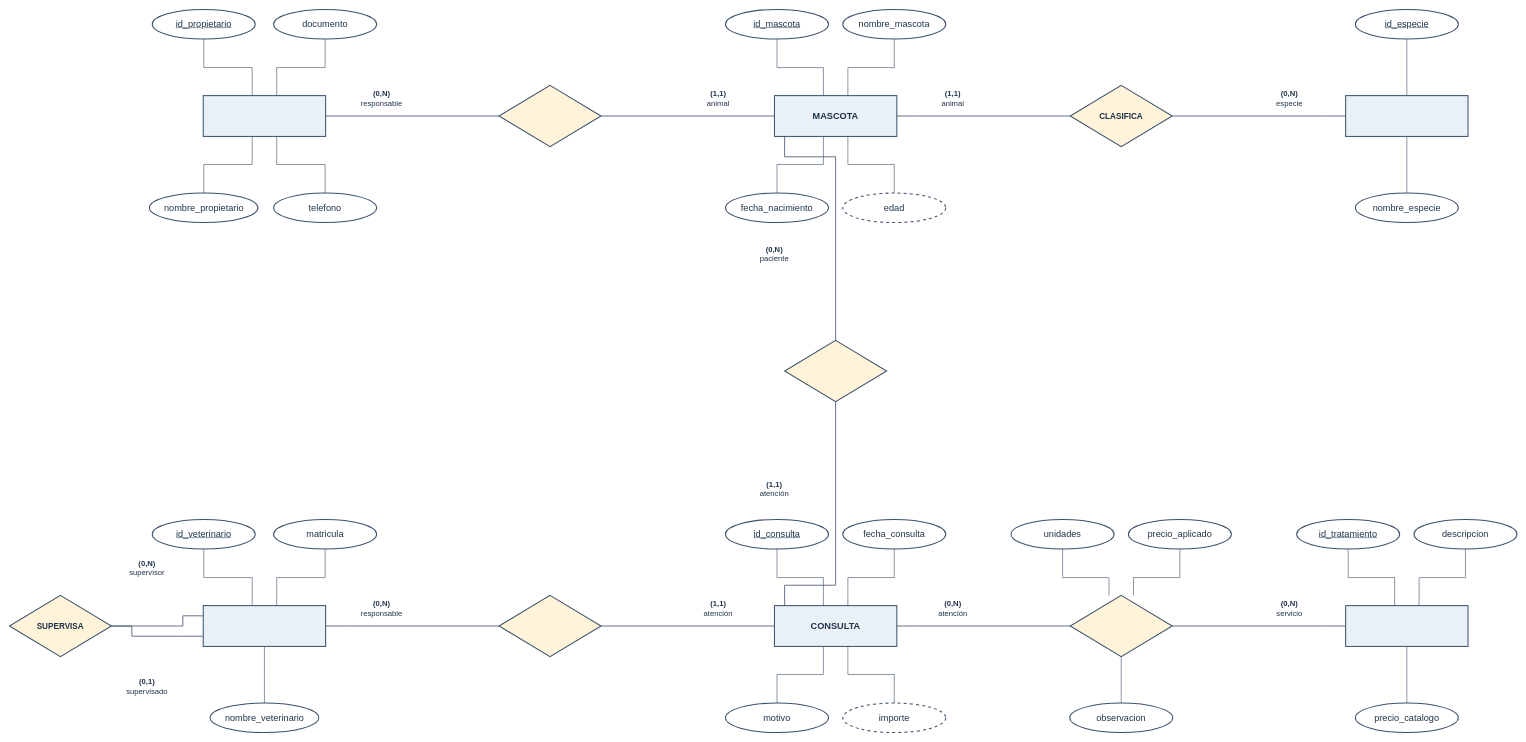
The diagram is 1526 pixels wide and 742 high, and some of its shapes have lost their labels. Here are the shapes that lost their labels. From the top down, the centre of each, then its label:
(x=264, y=116): PROPIETARIO
(x=549, y=116): RESPONSABLE
(x=1406, y=116): ESPECIE
(x=835, y=371): RECIBE
(x=264, y=626): VETERINARIO
(x=549, y=626): ATIENDE
(x=1120, y=626): APLICA
(x=1406, y=626): TRATAMIENTO
